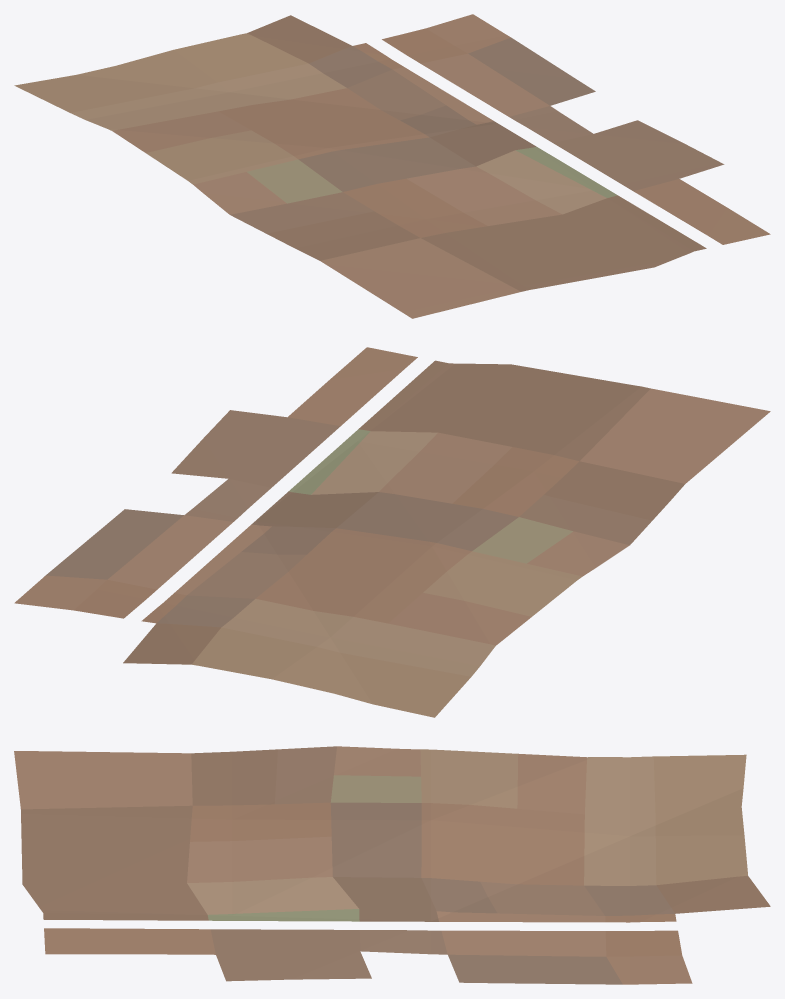
File: farm_-3_10_soil.glb
3 renders of one model, top to bottom at view 1: azimuth 30°, elevation 25°; view 2: azimuth 150°, elevation 25°; view 3: azimuth 270°, elevation 25°, orthographic. The views are drawn at different scales.
Visible parts, largest first — view 1: geometry_0; view 2: geometry_0; view 3: geometry_0.
Boxes of the visible parts, x1,y1,x2,y2 form: geometry_0: (14,14,770,318); geometry_0: (14,347,770,717); geometry_0: (14,746,770,984).
Bounding box in the file's own units: 214 × 16.48 × 305.
